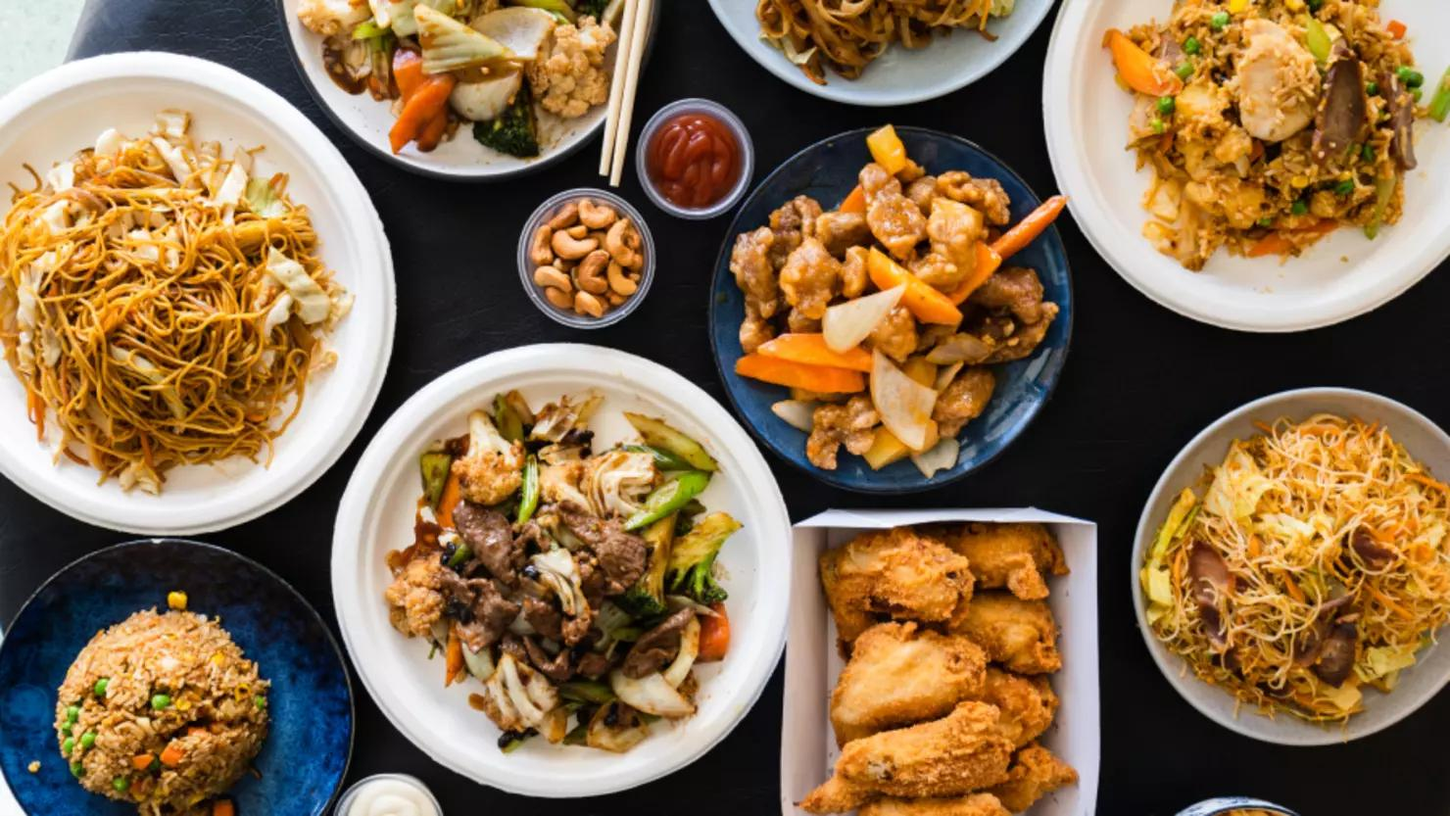Braised Crucian Carp: (328, 344, 763, 796), (7, 52, 395, 531), (1044, 4, 1447, 336), (724, 125, 1052, 496), (1128, 394, 1448, 746), (0, 539, 350, 815), (327, 771, 444, 815)
